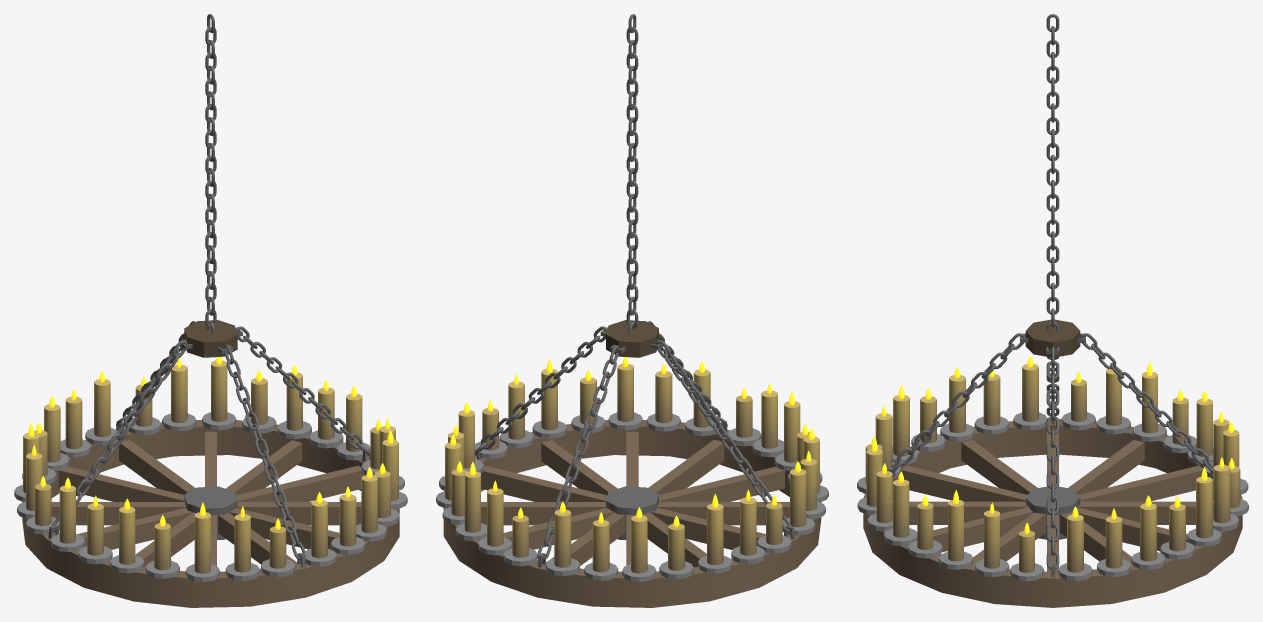
The model's file is candle_chandelier_a.FBX.
3 renders of one model, left to right at view 1: azimuth 30°, elevation 25°; view 2: azimuth 150°, elevation 25°; view 3: azimuth 270°, elevation 25°, orthographic.
Visible parts, largest first — view 1: candle_chandelier_a; view 2: candle_chandelier_a; view 3: candle_chandelier_a.
Part boxes in pixels (box(x1,y1,x2,y2)): candle_chandelier_a: box(14, 14, 407, 607); candle_chandelier_a: box(436, 14, 828, 607); candle_chandelier_a: box(857, 14, 1248, 607).
Bounding box in the file's own units: 1.24 × 1.8 × 1.24.
